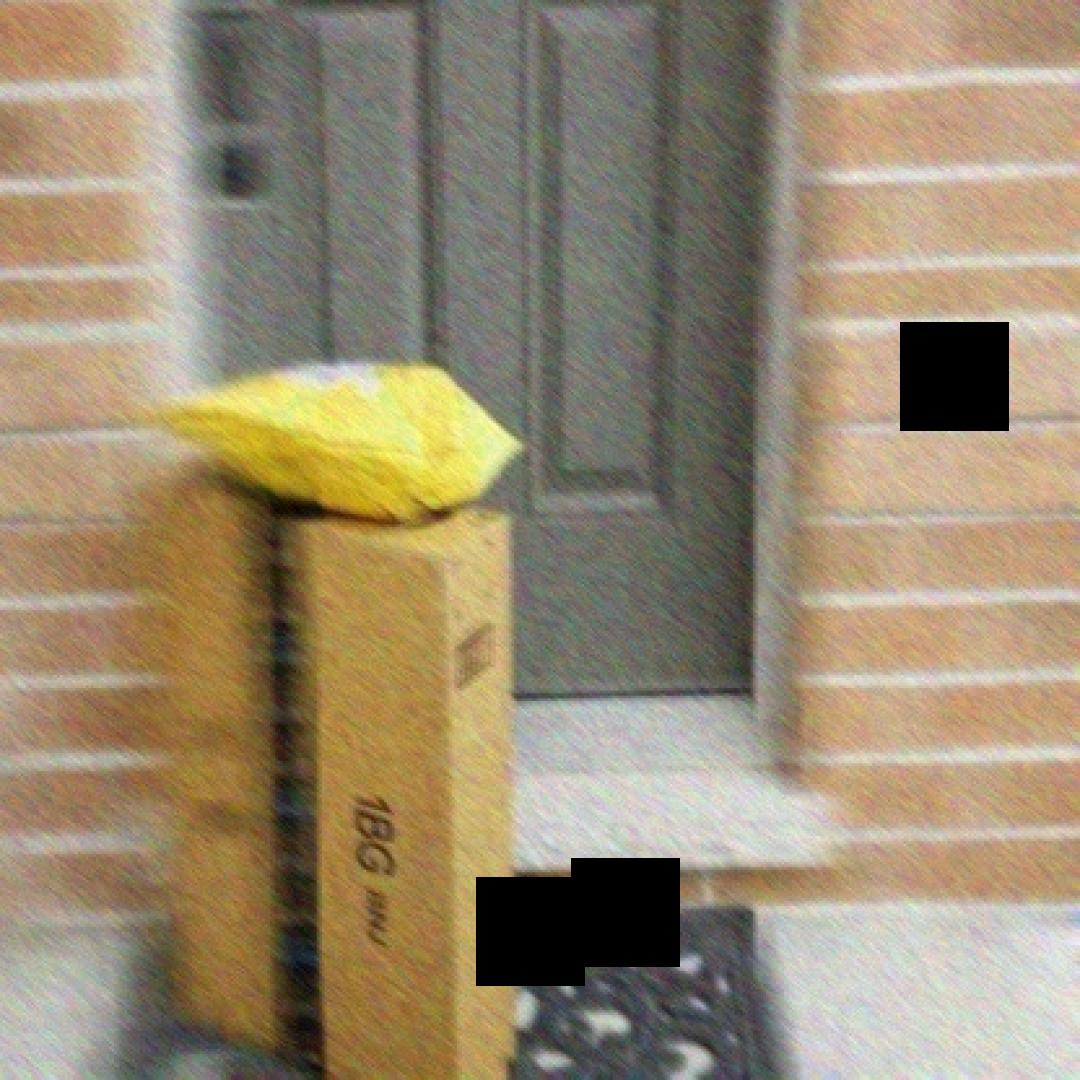package: (140, 444, 522, 1080)
